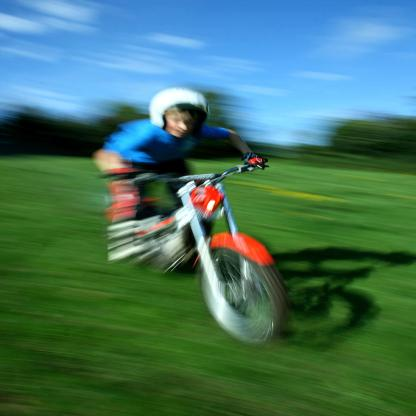Helmet: (150, 86, 211, 136)
